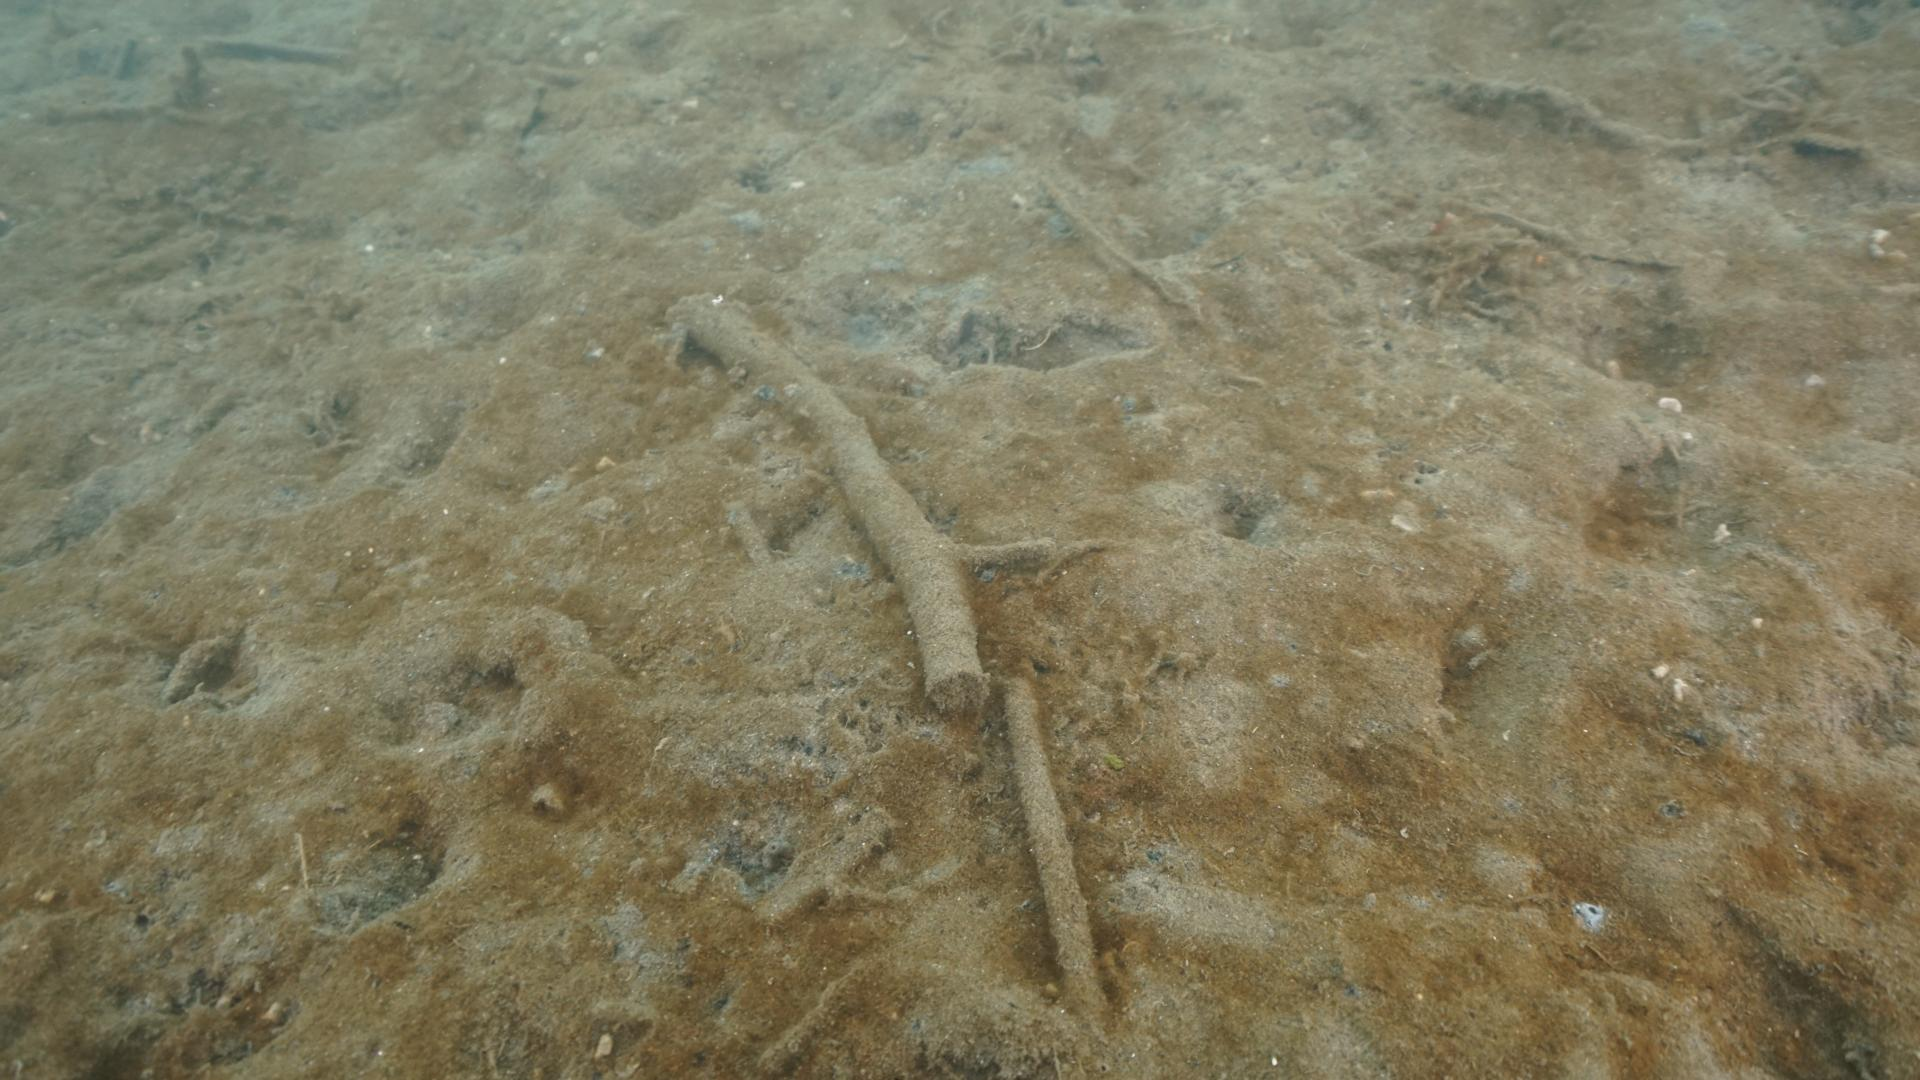wood: (661, 301, 1058, 721), (1004, 670, 1112, 1040)
